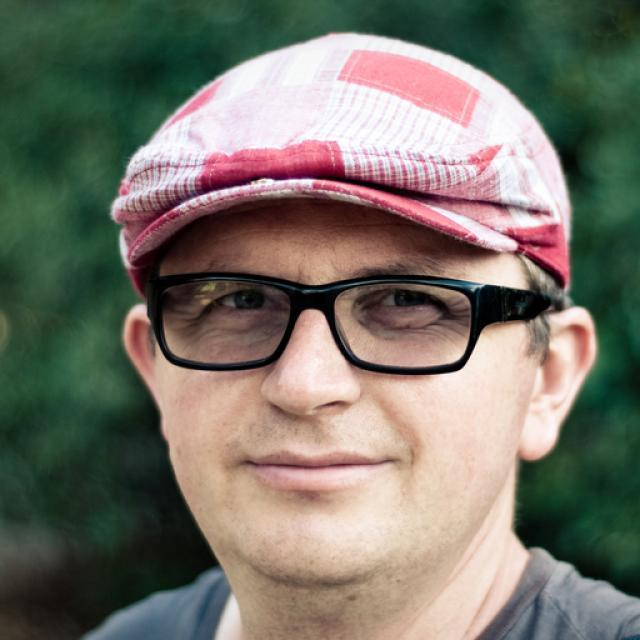content: (157, 184, 522, 580)
